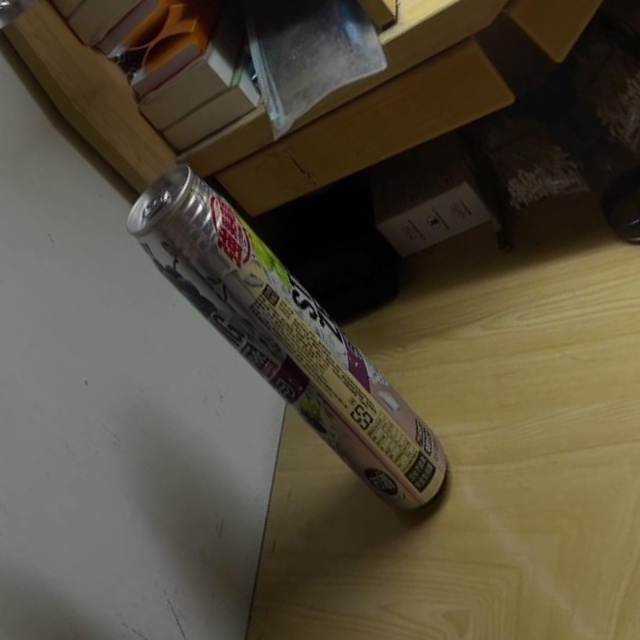Liquor: (108, 142, 468, 542)
